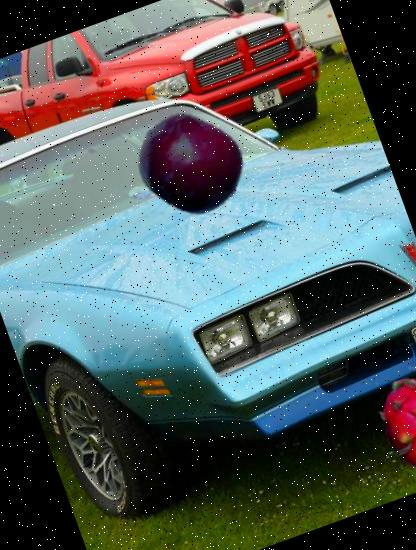Pitahaya: (352, 359, 416, 492)
Plum: (122, 95, 258, 232)
